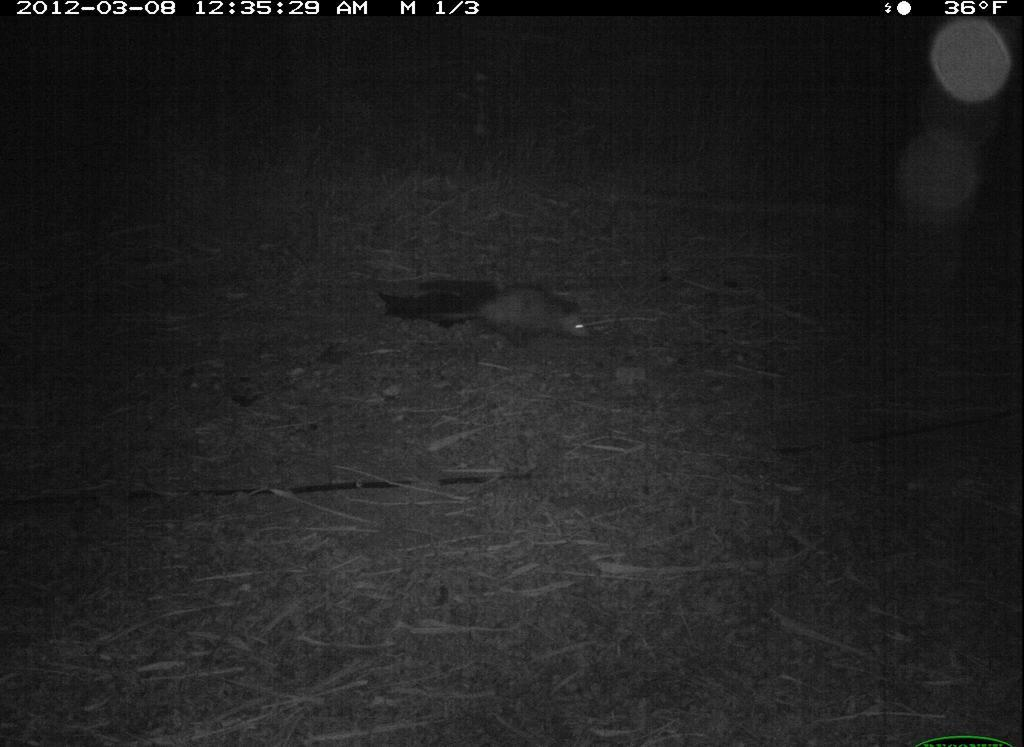opossum: (397, 272, 607, 351)
